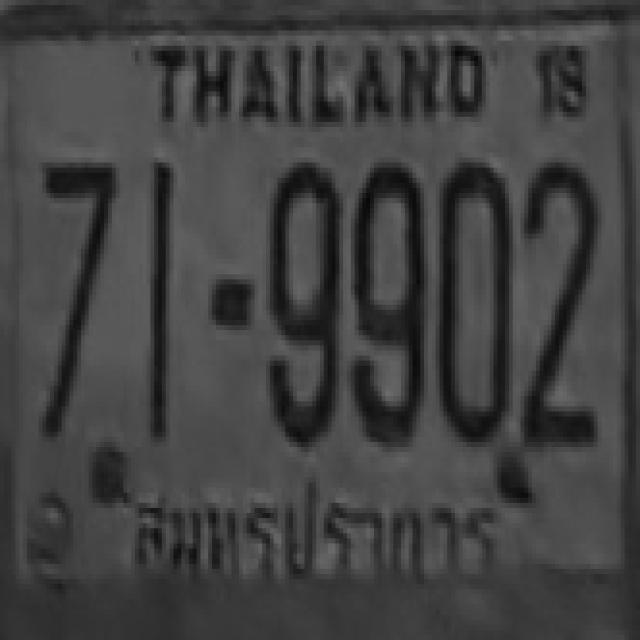0: (436, 160, 509, 439)
1: (148, 160, 172, 424), (148, 160, 172, 404)
2: (520, 158, 594, 406)
7: (40, 158, 114, 422), (42, 157, 116, 386), (40, 158, 114, 325)
9: (347, 157, 424, 442), (266, 157, 339, 442)
SamutPrakan: (121, 473, 512, 601)
